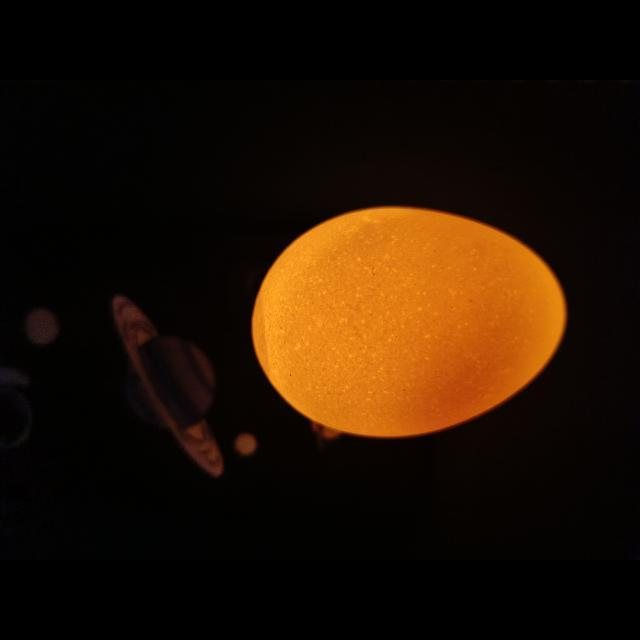AA - Premium: (253, 206, 566, 438)
